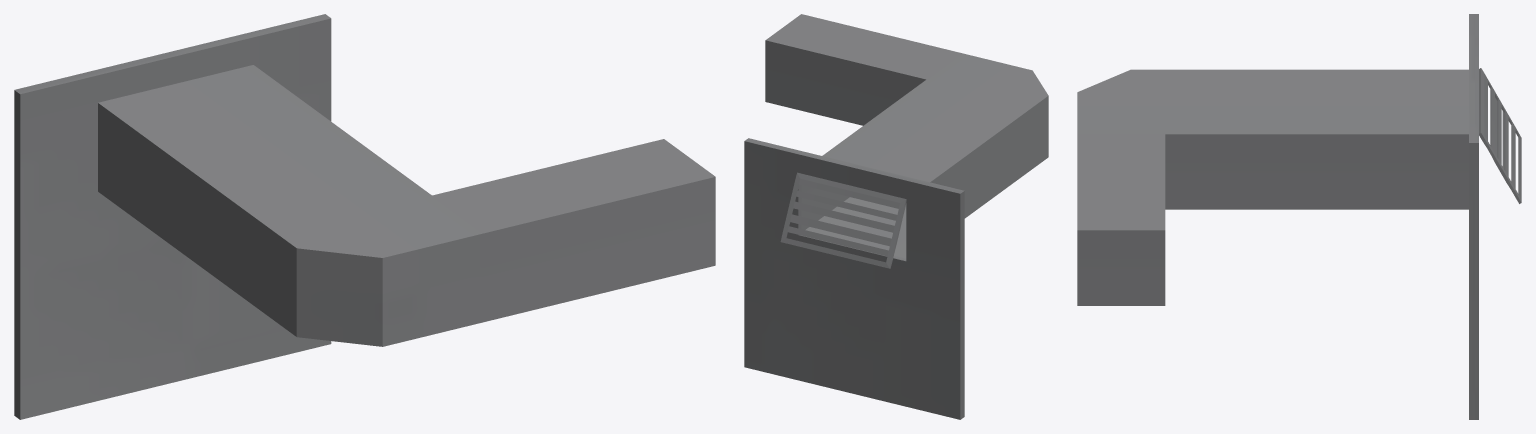
The model's file is pared conducto.fbx.
3 views of the same model, side by side, from view 1: azimuth 30°, elevation 25°; view 2: azimuth 150°, elevation 25°; view 3: azimuth 270°, elevation 25° (orthographic). The views are drawn at different scales.
Visible parts, largest first — view 1: Pared con rejilla; view 2: Pared con rejilla; view 3: Pared con rejilla.
Boxes of the visible parts, box(x1,y1,x2,y2) form: Pared con rejilla: box(14, 14, 715, 419); Pared con rejilla: box(744, 14, 1048, 419); Pared con rejilla: box(1077, 14, 1521, 419).
Size of the model in its own units: 449 by 300 by 436.
1 material, 1 textured.
